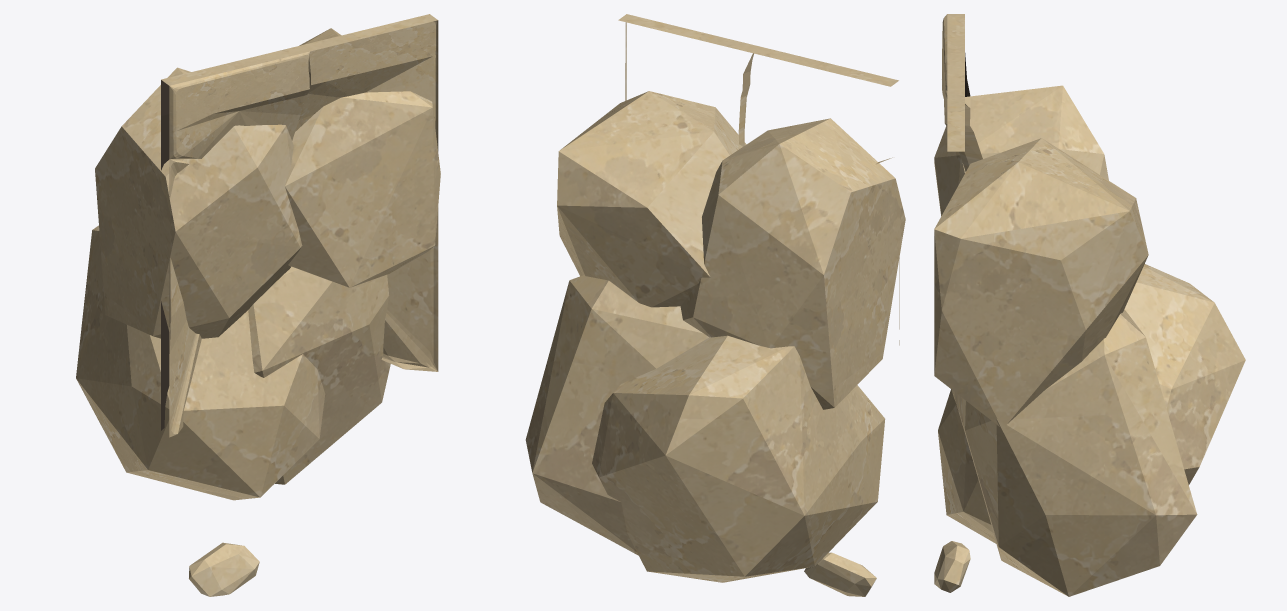
The model's file is ground_bottom_edge_04.glb.
3 renders of one model, left to right at view 1: azimuth 30°, elevation 25°; view 2: azimuth 150°, elevation 25°; view 3: azimuth 270°, elevation 25°, orthographic. The views are drawn at different scales.
Visible parts, largest first — view 1: GroundBottomEdge04_Body; view 2: GroundBottomEdge04_Body; view 3: GroundBottomEdge04_Body.
Part boxes in pixels (box(x1,y1,x2,y2)): GroundBottomEdge04_Body: box(76, 14, 440, 596); GroundBottomEdge04_Body: box(525, 14, 905, 596); GroundBottomEdge04_Body: box(934, 14, 1245, 596).
Bounding box in the file's own units: 1 × 1.85 × 1.04.
Materials: 6 (5 with a texture image).
